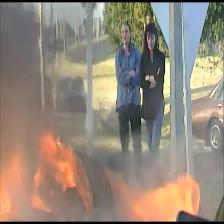fire: (0, 114, 121, 219), (115, 163, 211, 219)
smoke: (0, 6, 100, 122)
